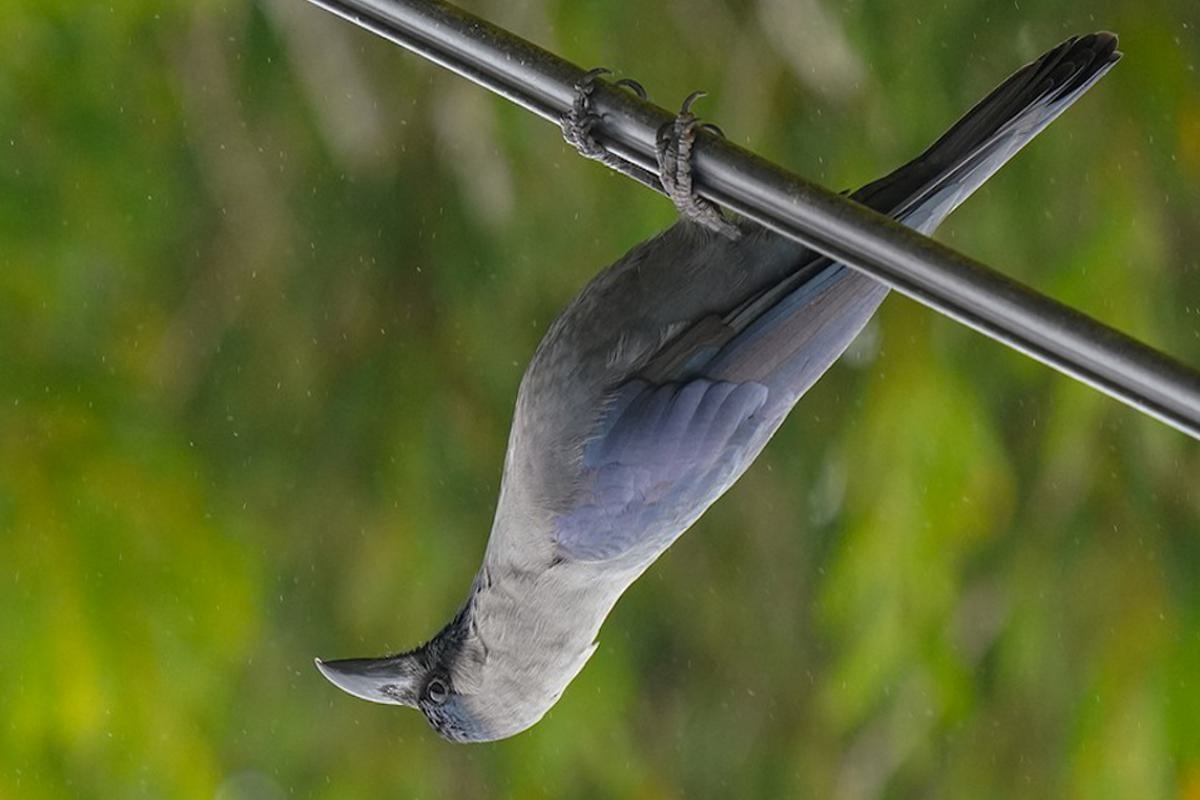crow: (308, 67, 1066, 763)
